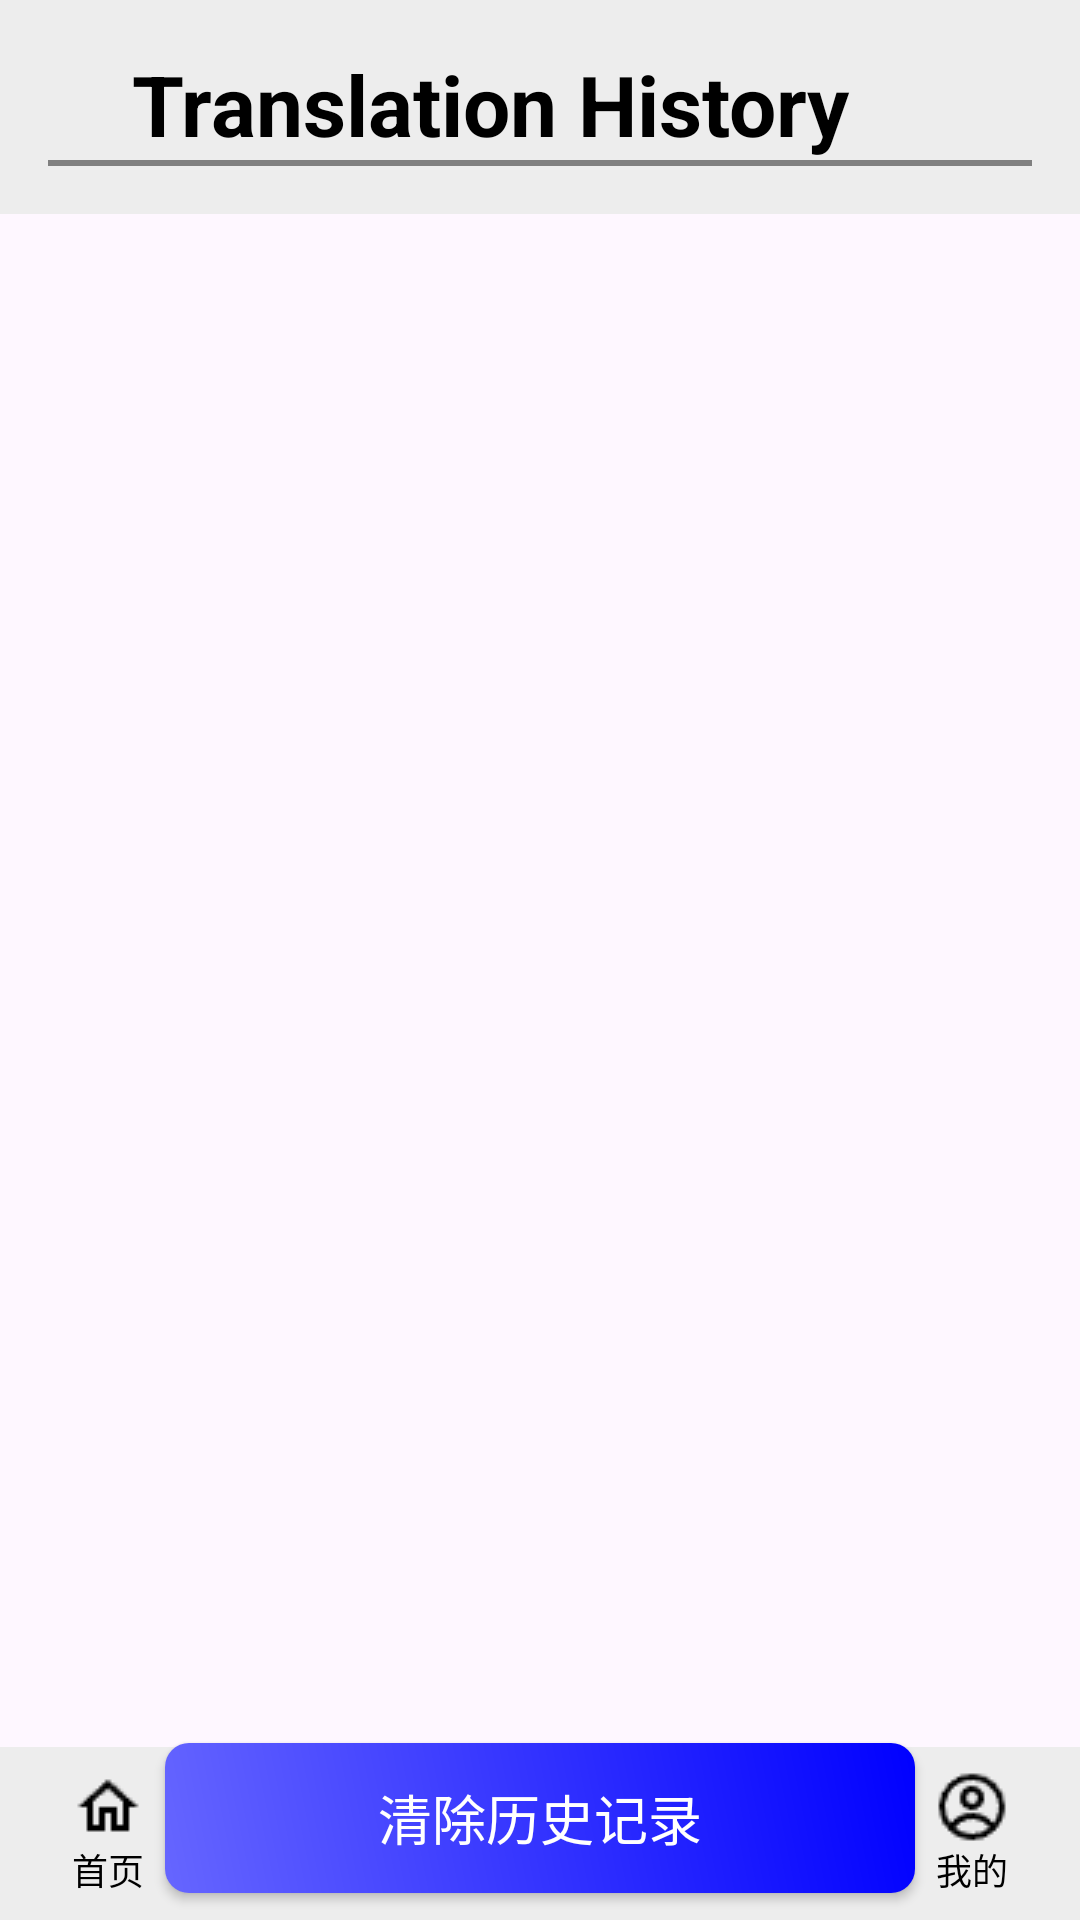

Named icons in this screenshot (1080px x 1920px) and their bounding boxes, box(x1, y1, x2, y2):
person: box(938, 1773, 1006, 1841)
